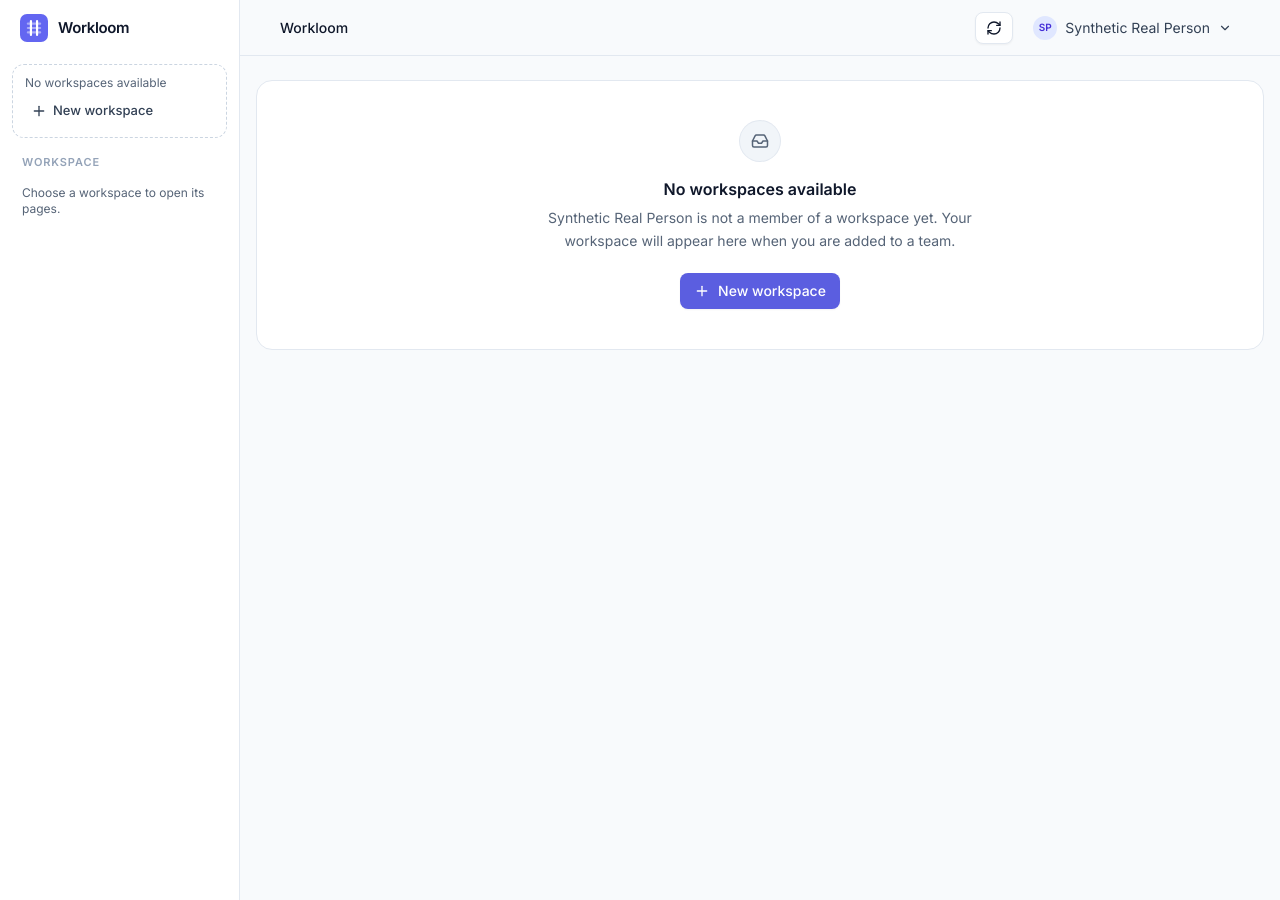
Test case: creating a workspace › sends the trimmed name and time zone with a key and the actor header, publishes the result and opens its projects
expect the heading "No workspaces available" is shown: met, box [664,177,856,201]
Step 1. Click the 2nd button "New workspace" → [760, 290], box [680,272,840,308]
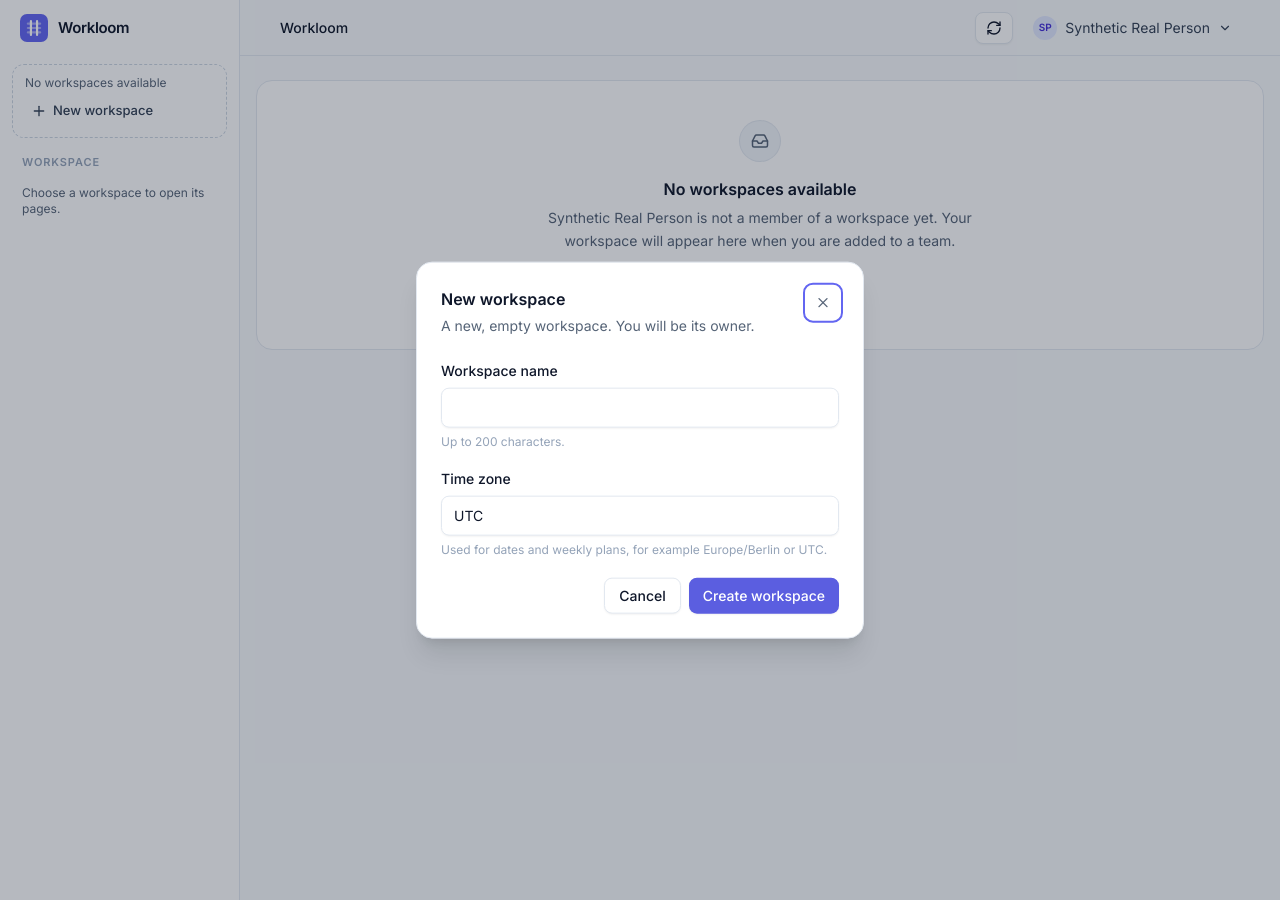
Step 2. Type "  Synthetic new team  " into the field labelled "Workspace name" → [640, 407], box [441,387,839,427]
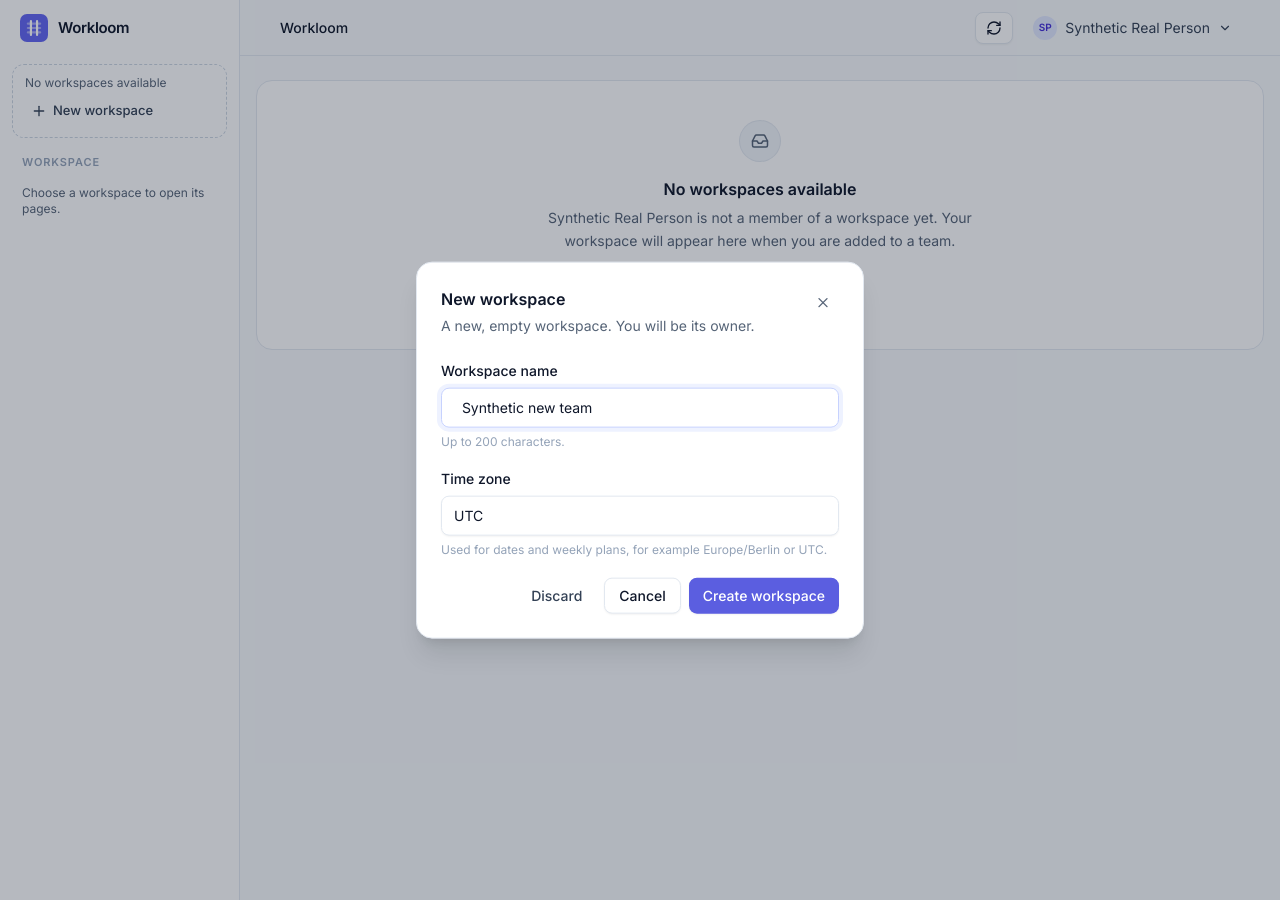
Step 3. Replace the text in the field labelled "Time zone" with "Europe/Berlin" → [640, 515], box [441,495,839,535]
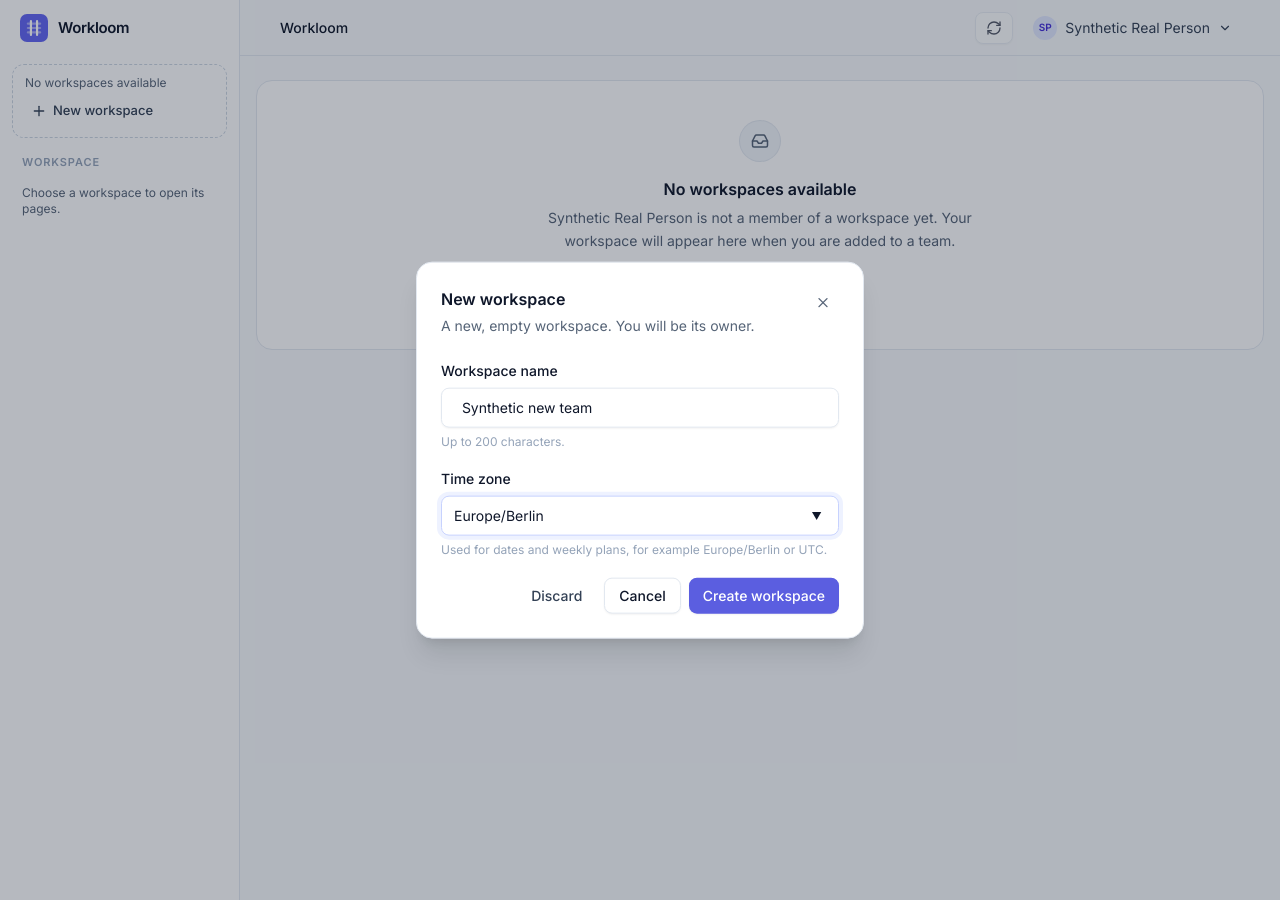
Step 4. Click the button "Create workspace" → [764, 595], box [689,577,839,613]
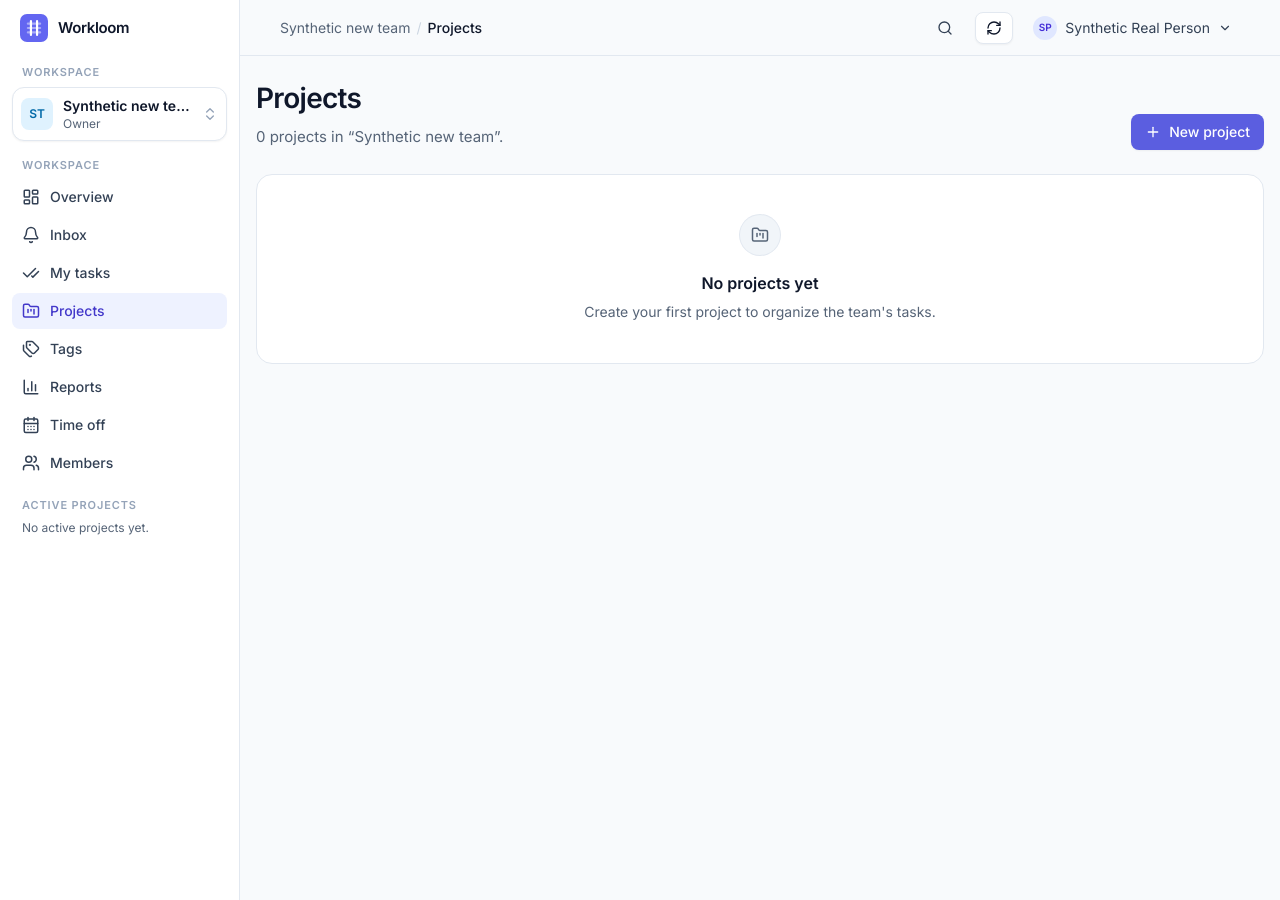
expect the button "New workspace" is gone: met
